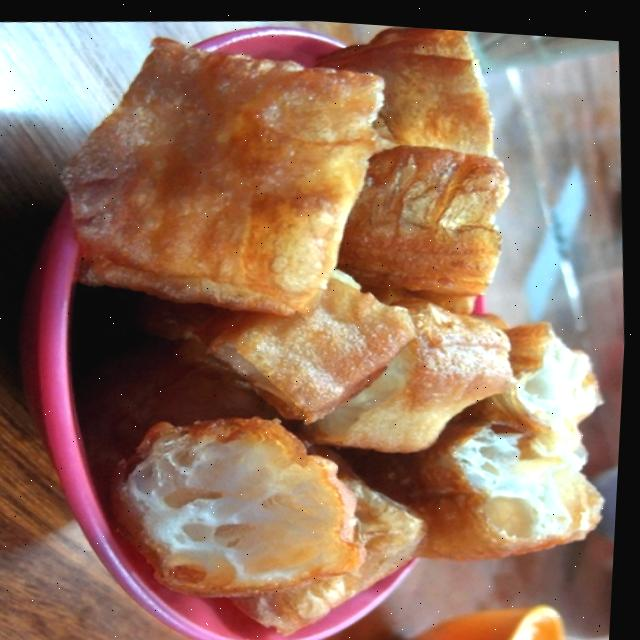汤锅炖物: (22, 3, 640, 640)
